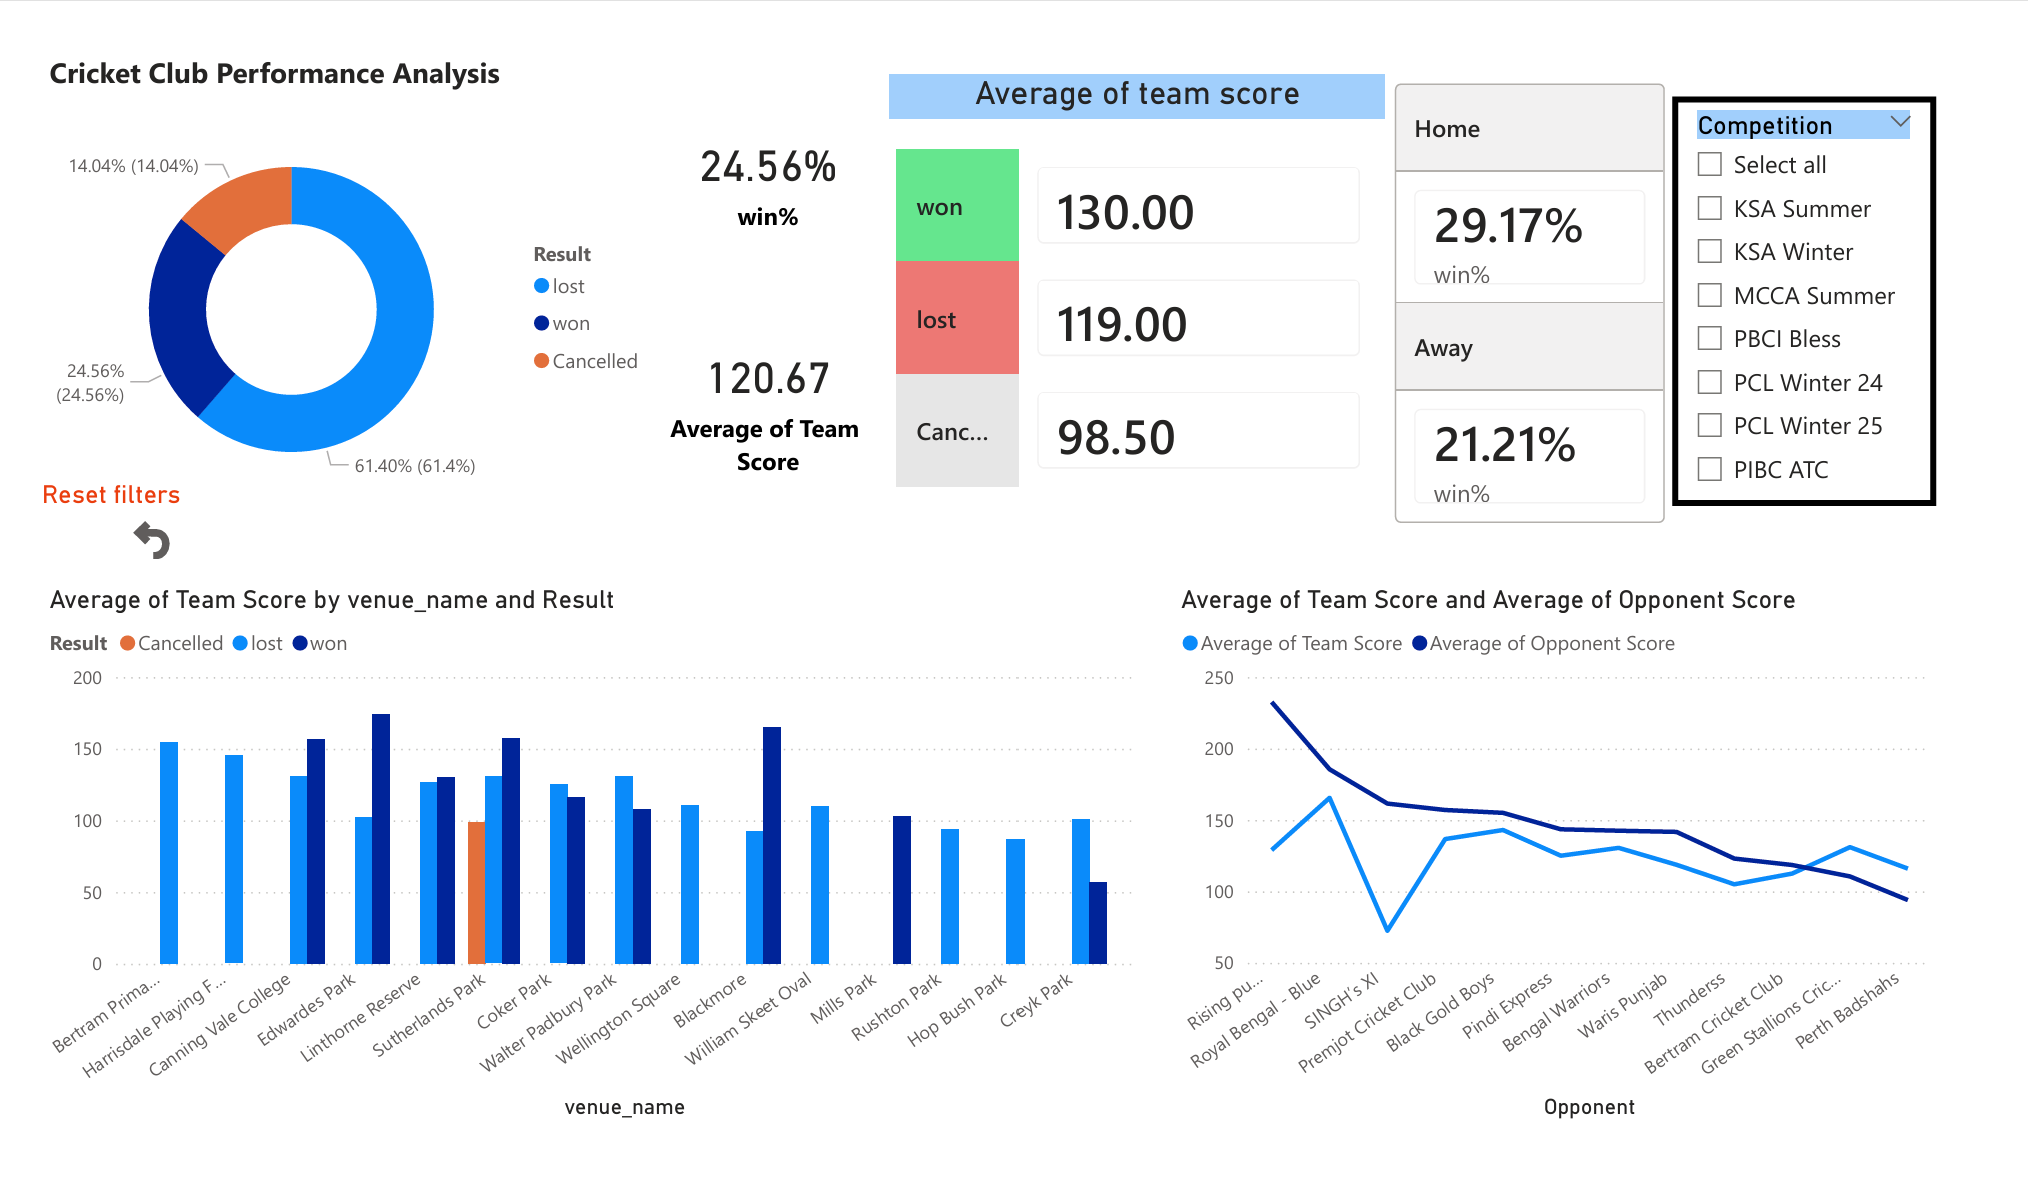

The page's visual inventory and layout, read from the dashboard file:
{"tool":"powerbi","page":{"name":"Page 1","canvas":[1280,720],"ordinal":0},"visuals":[{"type":"lineChart","title":"Average of Team Score and Average of Opponent Score","fields":{"Category":["Final_table.Opponent"],"Y":["Avg(Final_table.Team Score)","Avg(Final_table.Opponent Score)"]},"box":[753.3,358.3,509.9,361.3],"z":0},{"type":"cardVisual","fields":{"Data":["Final_table.win%"],"Rows":["Final_table.Team Side"]},"box":[895.7,0,190.6,343],"z":1000},{"type":"card","fields":{"Values":["Final_table.win%"]},"box":[412.5,13.6,143.2,150],"z":2000},{"type":"slicer","fields":{"Values":["Final_table.Competition"]},"box":[1086.3,33.3,176.3,273.2],"z":3000},{"type":"card","fields":{"Values":["Avg(Final_table.Team Score)"]},"box":[412.5,150,143.2,160.2],"z":4000},{"type":"cardVisual","title":"Average of team score","fields":{"Data":["Avg(Final_table.Team Score)"],"Rows":["Final_table.Result"]},"box":[565.4,19.1,330.3,300.1],"z":5000},{"type":"clusteredColumnChart","fields":{"Category":["Final_table.venue_name"],"Y":["Avg(Final_table.Team Score)"],"Series":["Final_table.Result"]},"box":[0,358.6,732.1,361.9],"z":6000},{"type":"donutChart","fields":{"Category":["Final_table.Result"],"Y":["CountNonNull(Final_table.Result)"]},"box":[0,32.4,412.5,286.3],"z":7000},{"type":"textbox","box":[0,0,412.5,51.1],"z":8000},{"type":"actionButton","title":"Reset filters","box":[0,288.9,147.8,54.8],"z":9000}]}

Visuals, with their boxes on the page's 1280x720 design canvas (x1, y1, x2, y2). These are canvas units, not pixel positions in the 2028x1198 screenshot, which may show the page scaled, cropped or inside an application window:
"Average of Team Score and Average of Opponent Score" lineChart: [left=753, top=358, right=1263, bottom=720]
cardVisual - Final_table.win% x Final_table.Team Side: [left=896, top=0, right=1086, bottom=343]
card - Final_table.win%: [left=412, top=14, right=556, bottom=164]
slicer - Final_table.Competition: [left=1086, top=33, right=1263, bottom=306]
card - Avg(Final_table.Team Score): [left=412, top=150, right=556, bottom=310]
"Average of team score" cardVisual: [left=565, top=19, right=896, bottom=319]
clusteredColumnChart - Final_table.venue_name x Avg(Final_table.Team Score): [left=0, top=359, right=732, bottom=720]
donutChart - Final_table.Result x CountNonNull(Final_table.Result): [left=0, top=32, right=412, bottom=319]
textbox: [left=0, top=0, right=412, bottom=51]
"Reset filters" actionButton: [left=0, top=289, right=148, bottom=344]
